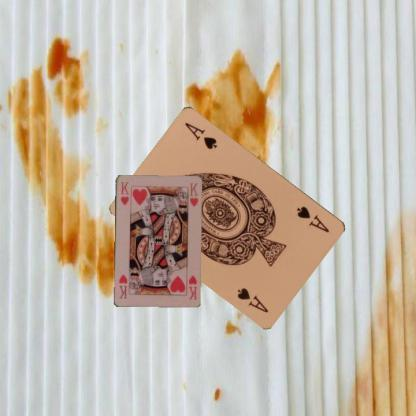As: (294, 203, 331, 234)
Kh: (186, 271, 198, 300), (118, 179, 130, 206)
